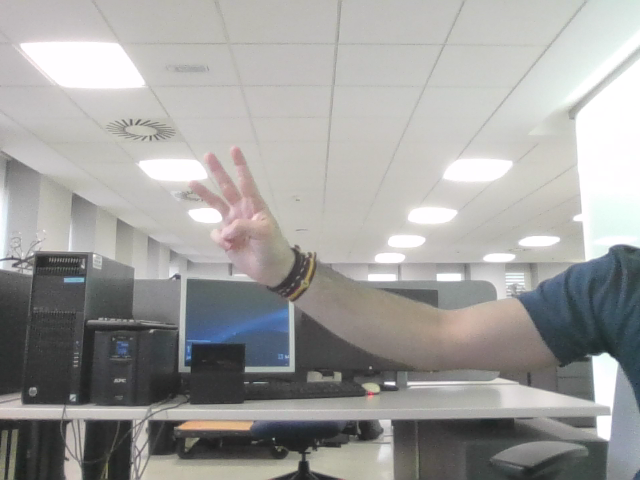3Dedos: (197, 155, 265, 243)
